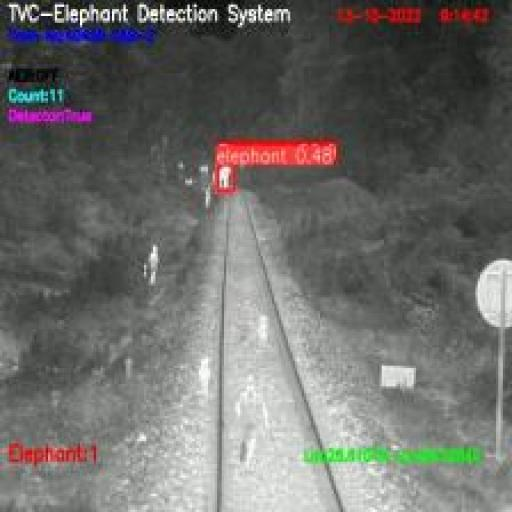Elephant: (217, 165, 233, 192)
